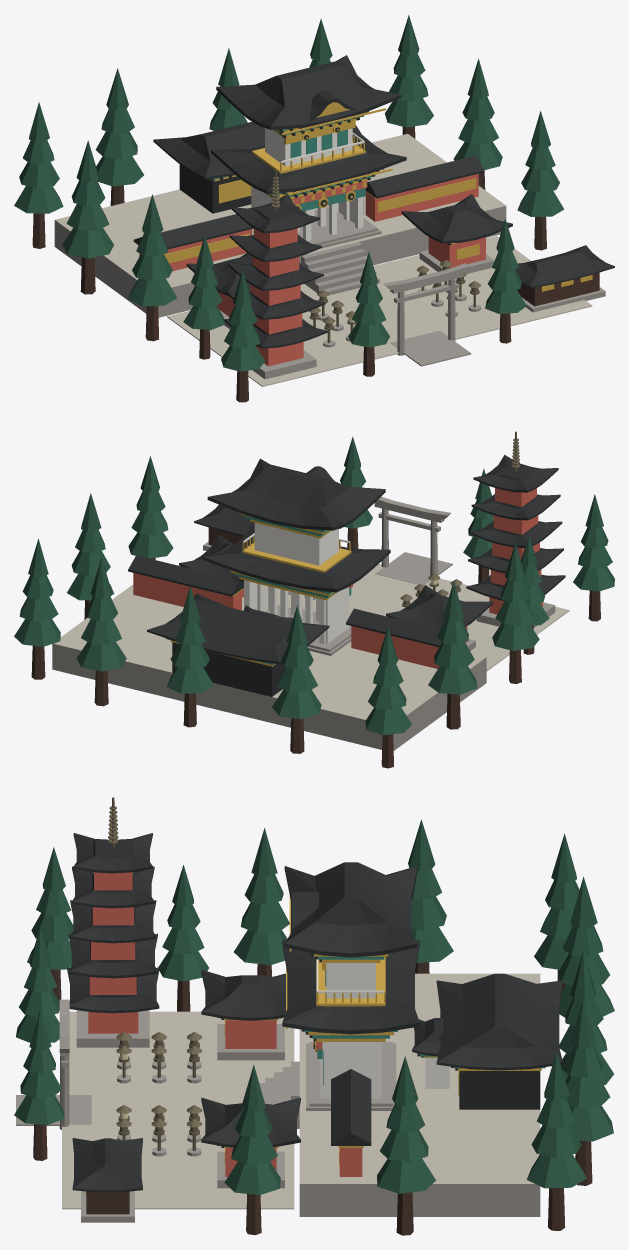
Rendered from nikko-toshogu.glb.
3 renders of one model, top to bottom at view 1: azimuth 30°, elevation 25°; view 2: azimuth 150°, elevation 25°; view 3: azimuth 270°, elevation 25°, orthographic. The views are drawn at different scales.
Visible parts, largest first — view 1: nikko_roof, nikko_cedar, nikko_gravel, nikko_stone, nikko_vermilion, nikko_gold, nikko_bark, nikko_white, nikko_bronze, nikko_teal; view 2: nikko_roof, nikko_cedar, nikko_gravel, nikko_stone, nikko_white, nikko_vermilion, nikko_bark, nikko_gold, nikko_bronze, nikko_teal; view 3: nikko_roof, nikko_cedar, nikko_gravel, nikko_stone, nikko_vermilion, nikko_bark, nikko_white, nikko_gold, nikko_bronze, nikko_teal.
Part boxes in pixels (x1=…): nikko_roof: x1=133, y1=55, x2=614, y2=348; nikko_cedar: x1=14, y1=15, x2=564, y2=371; nikko_gravel: x1=55, y1=133, x2=592, y2=386; nikko_stone: x1=54, y1=206, x2=605, y2=379; nikko_vermilion: x1=139, y1=173, x2=485, y2=366; nikko_gold: x1=138, y1=102, x2=592, y2=291; nikko_bark: x1=32, y1=126, x2=599, y2=402; nikko_white: x1=251, y1=128, x2=364, y2=241; nikko_bronze: x1=271, y1=169, x2=481, y2=342; nikko_teal: x1=209, y1=116, x2=381, y2=215; nikko_roof: x1=128, y1=454, x2=565, y2=696; nikko_cedar: x1=14, y1=436, x2=614, y2=735; nikko_gravel: x1=54, y1=563, x2=569, y2=719; nikko_stone: x1=52, y1=496, x2=555, y2=750; nikko_white: x1=243, y1=523, x2=350, y2=643; nikko_vermilion: x1=133, y1=488, x2=542, y2=668; nikko_bark: x1=31, y1=527, x2=600, y2=768; nikko_gold: x1=170, y1=513, x2=351, y2=666; nikko_bronze: x1=400, y1=431, x2=520, y2=607; nikko_teal: x1=166, y1=515, x2=351, y2=664; nikko_roof: x1=67, y1=833, x2=562, y2=1192; nikko_cedar: x1=14, y1=819, x2=614, y2=1195; nikko_gravel: x1=62, y1=973, x2=540, y2=1209; nikko_stone: x1=16, y1=999, x2=540, y2=1222; nikko_vermilion: x1=88, y1=872, x2=362, y2=1176; nikko_bark: x1=33, y1=962, x2=592, y2=1235; nikko_white: x1=316, y1=959, x2=449, y2=1098; nikko_gold: x1=85, y1=895, x2=541, y2=1193; nikko_bronze: x1=108, y1=797, x2=201, y2=1150; nikko_teal: x1=220, y1=953, x2=545, y2=1084.
Bounding box in the file's own units: 22.32 × 9.92 × 22.24.
